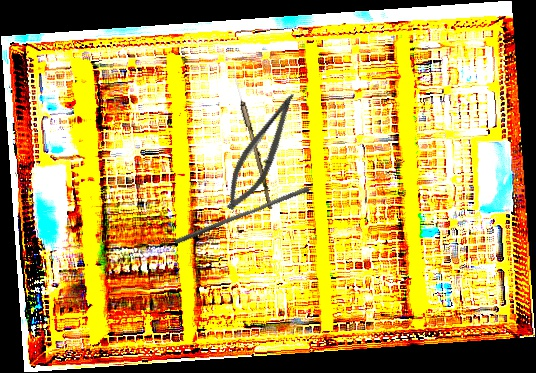Micro Scissor: (217, 84, 304, 218)
Pusher: (173, 181, 311, 250)
Surgical Spoon: (228, 65, 276, 210)
